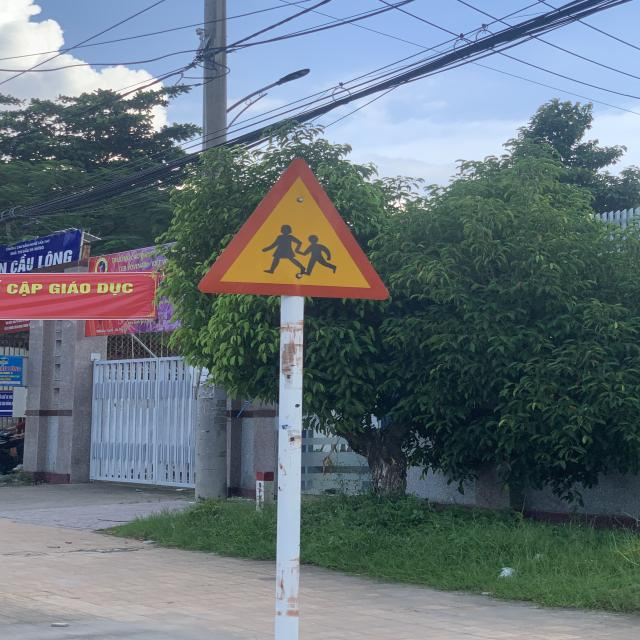Vong_Xuyen: (204, 153, 392, 299)
